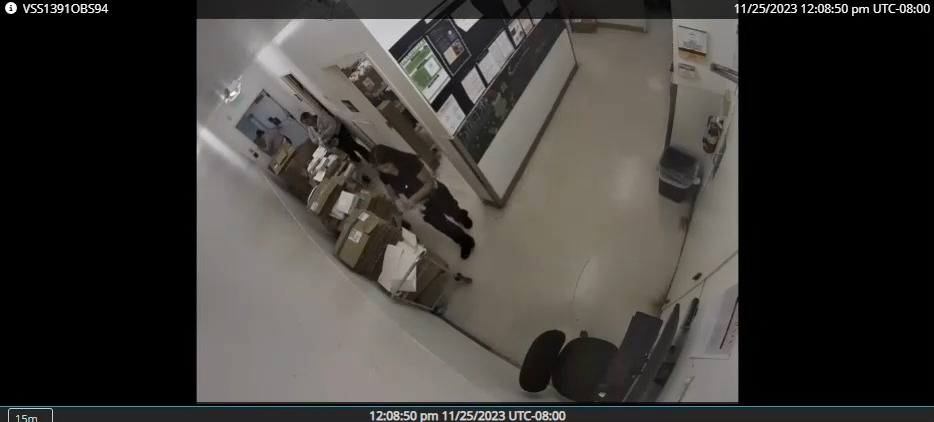gloves: (389, 200, 432, 219)
